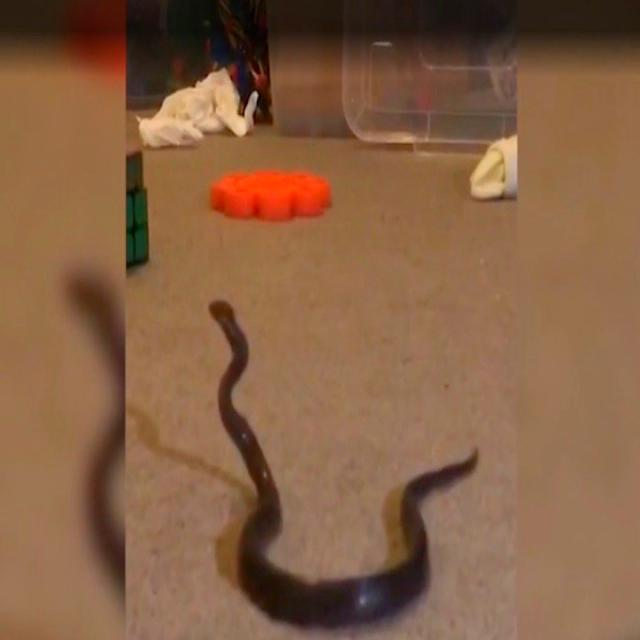snake: (209, 301, 478, 628)
